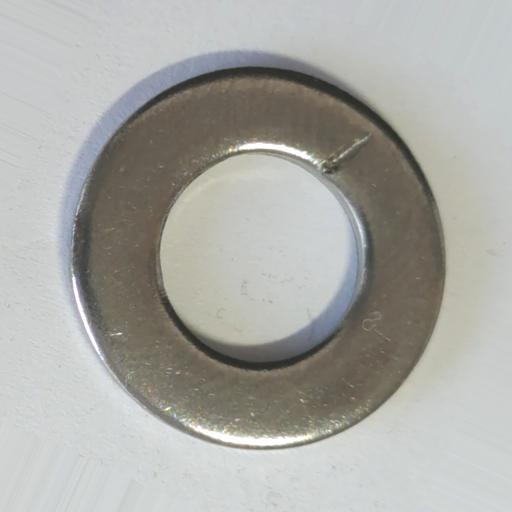scratch: (317, 130, 374, 174)
